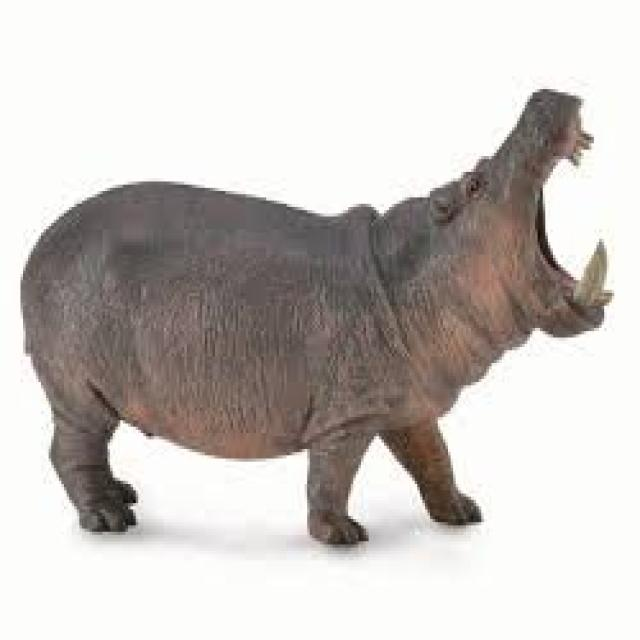Hippopotamus: (19, 84, 604, 533)
